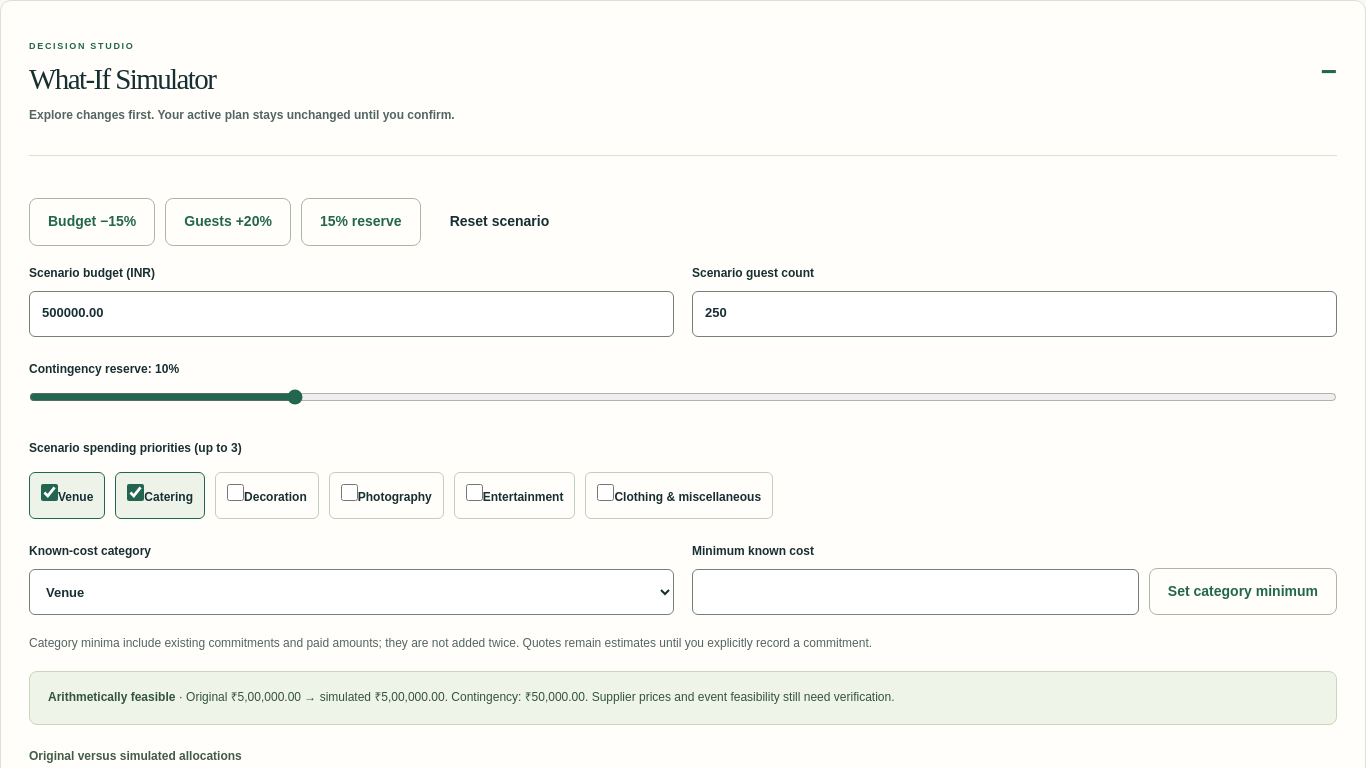
reports and focuses invalid known cost abc without mutating the plan
The width and height of the screenshot is (1366, 768).
Step 1. Type "abc" into the field labelled "Minimum known cost" → (915, 592), box [692,569,1139,615]
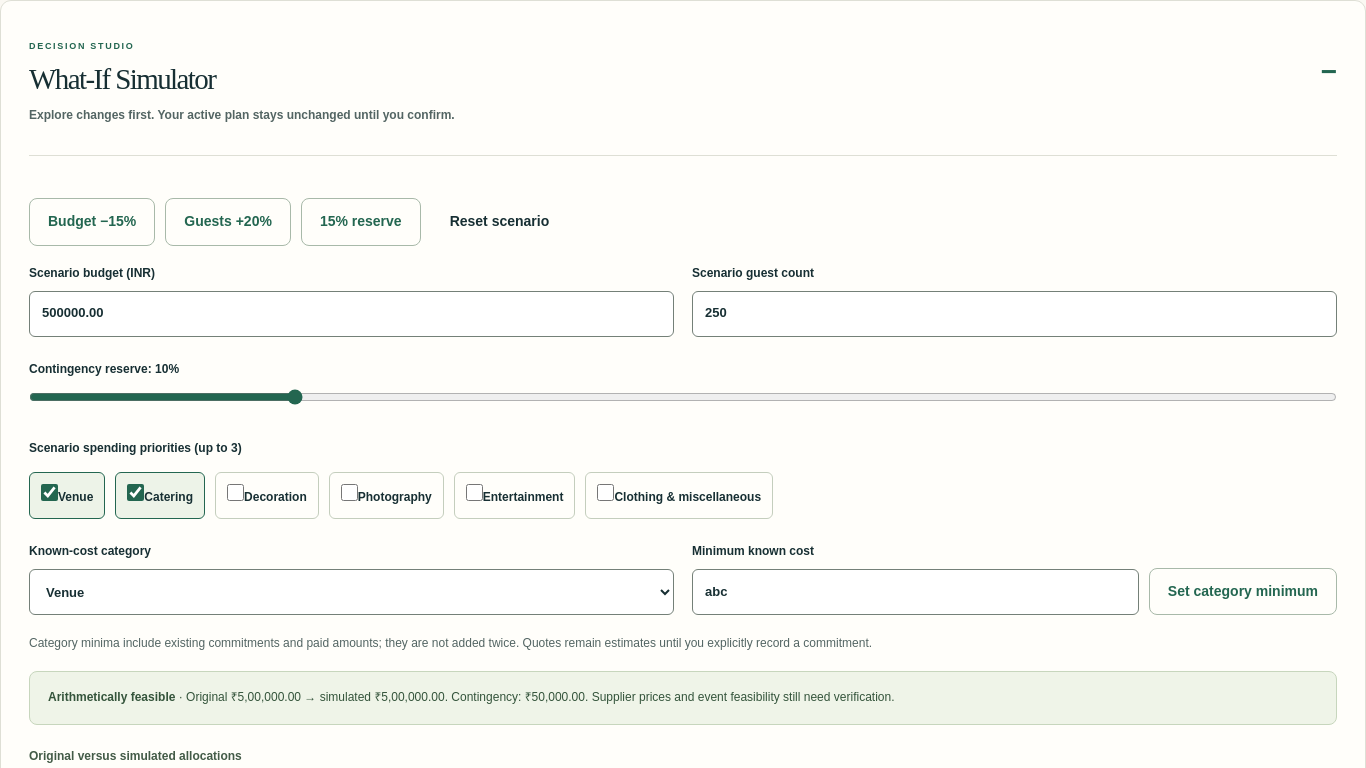
Step 2. Click the button "Set category minimum" → (1243, 591), box [1149,568,1337,615]
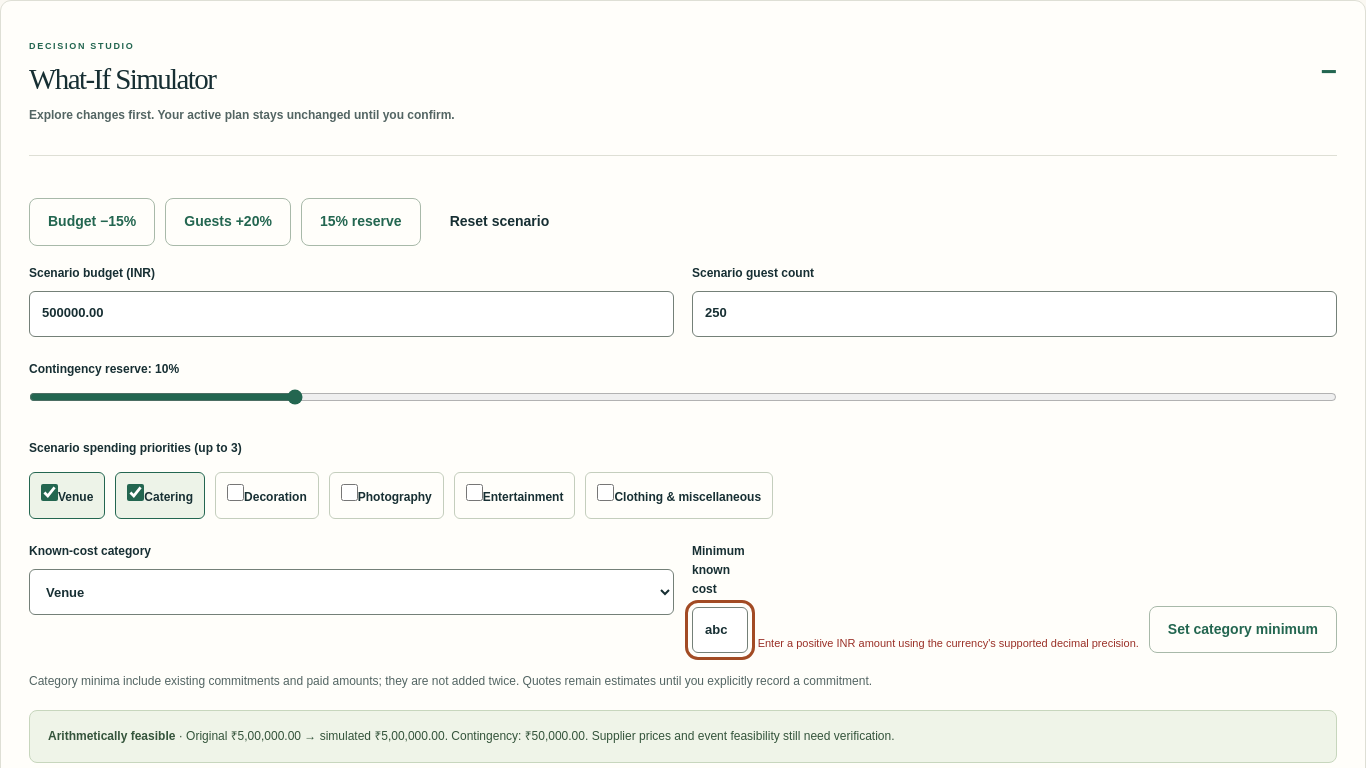
Check: the message "Enter a positive INR amount using the currency's supported decimal precision." is shown, box [758,634,1139,653]
